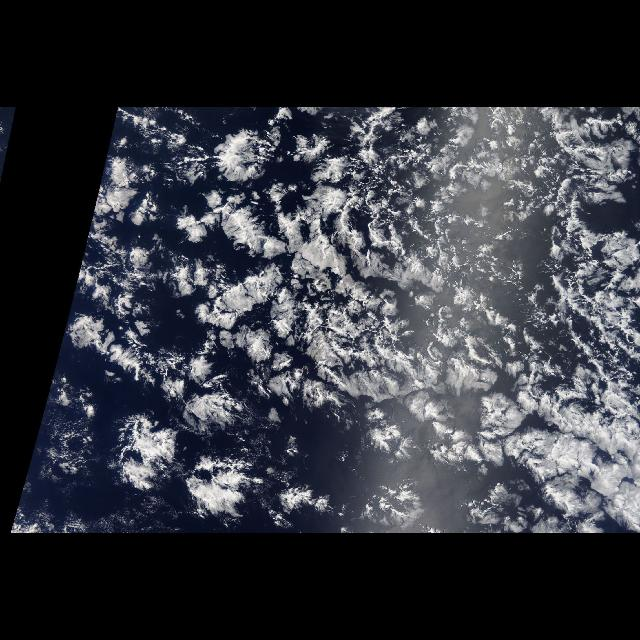Flower: (39, 111, 624, 533)
